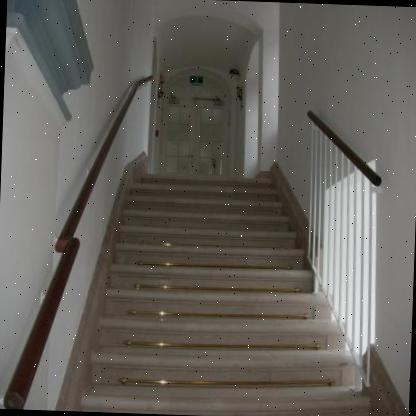stair: (86, 152, 368, 416)
